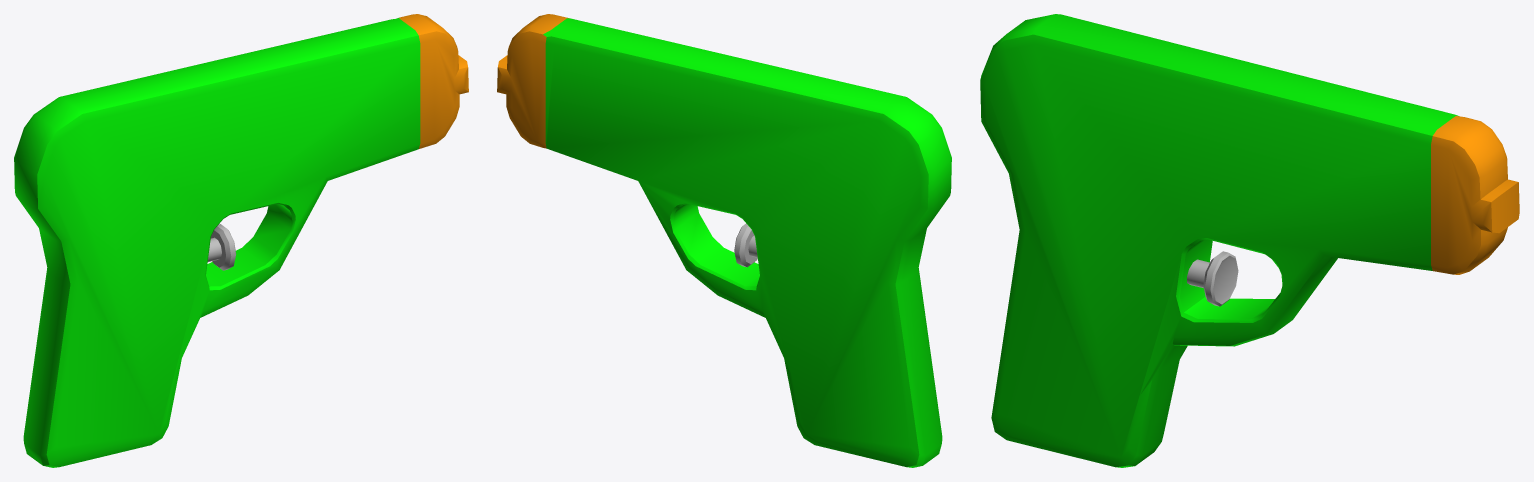
The model's file is WaterGun.fbx.
The picture shows the model from 3 angles, left to right: view 1: azimuth 30°, elevation 25°; view 2: azimuth 150°, elevation 25°; view 3: azimuth 330°, elevation 25°; orthographic projection. The views are drawn at different scales.
Visible parts, largest first — view 1: Gun, Trigger; view 2: Gun, Trigger; view 3: Gun, Trigger.
Part boxes in pixels (<box>): Gun: <box>14,14,468,467</box>; Trigger: <box>207,224,236,270</box>; Gun: <box>497,14,951,467</box>; Trigger: <box>734,223,757,267</box>; Gun: <box>980,14,1519,467</box>; Trigger: <box>1187,251,1238,306</box>.
Bounding box in the file's own units: 255 × 197 × 27.26.
